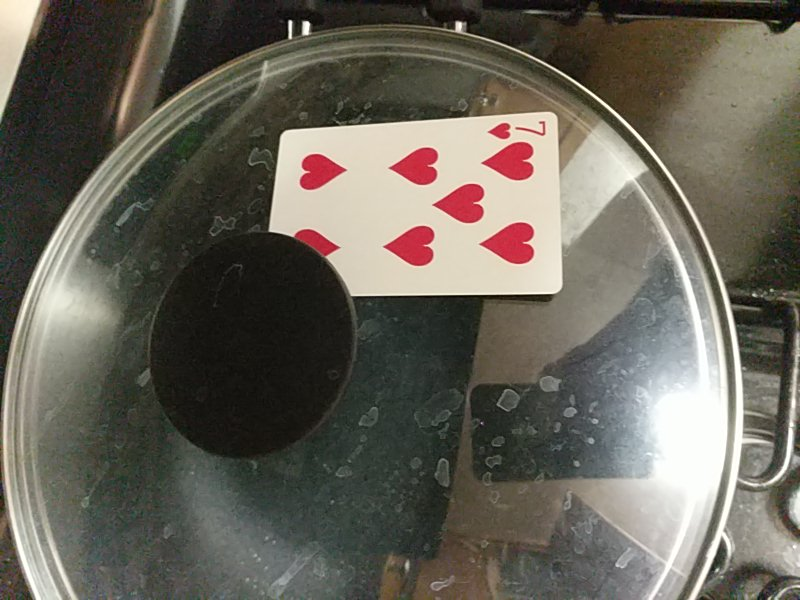Hearts: (267, 112, 564, 296)
